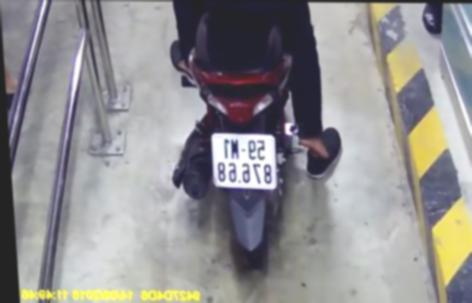License_Plate: (205, 129, 286, 197)
